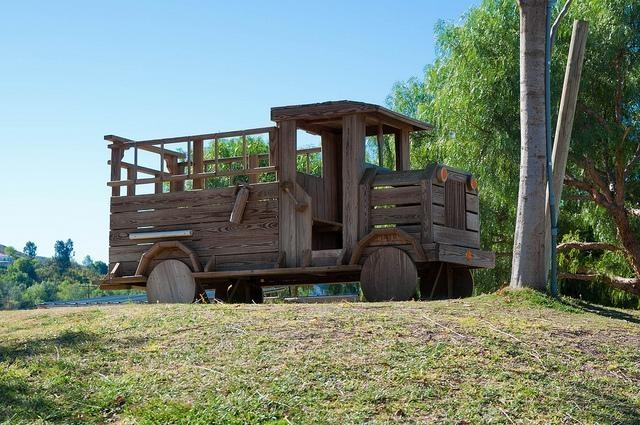truck: (103, 106, 495, 308)
